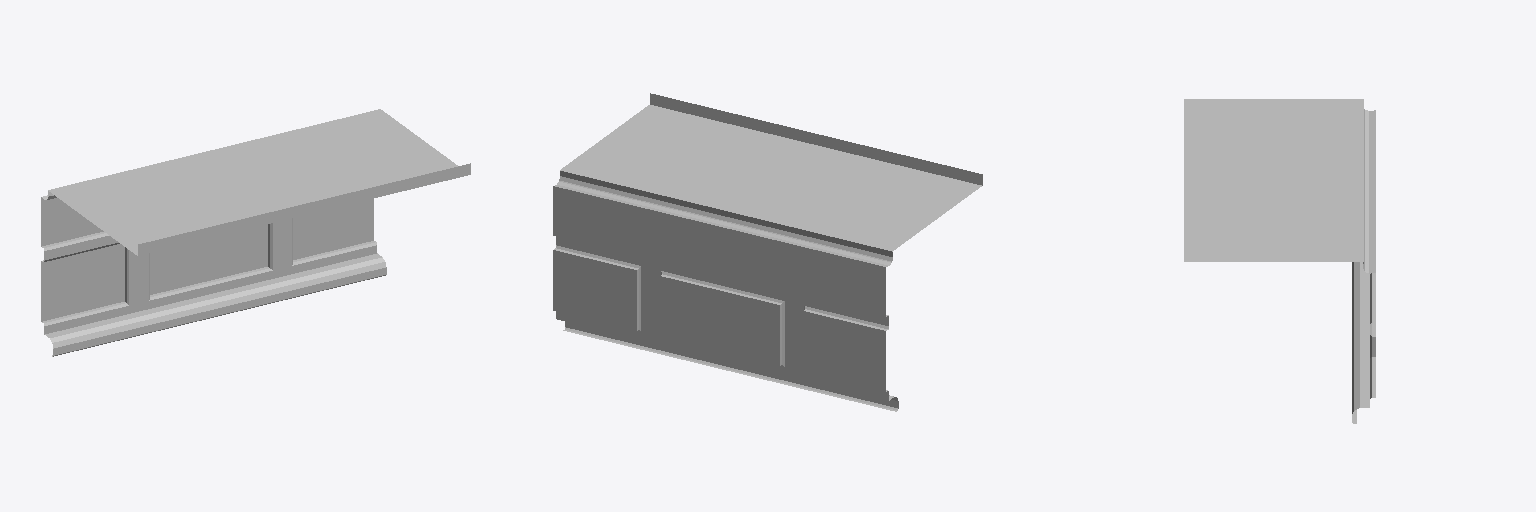
Rendered from mansion1_ceilingwall.obj.
3 renders of one model, left to right at view 1: azimuth 30°, elevation 25°; view 2: azimuth 150°, elevation 25°; view 3: azimuth 270°, elevation 25°, orthographic.
Visible parts, largest first — view 1: concave; view 2: concave; view 3: concave.
Part boxes in pixels (left/top/right/bottom): concave: left=41, top=109, right=470, bottom=356; concave: left=553, top=93, right=982, bottom=411; concave: left=1184, top=99, right=1375, bottom=423.
Bounding box in the file's own units: 4 × 2 × 2.